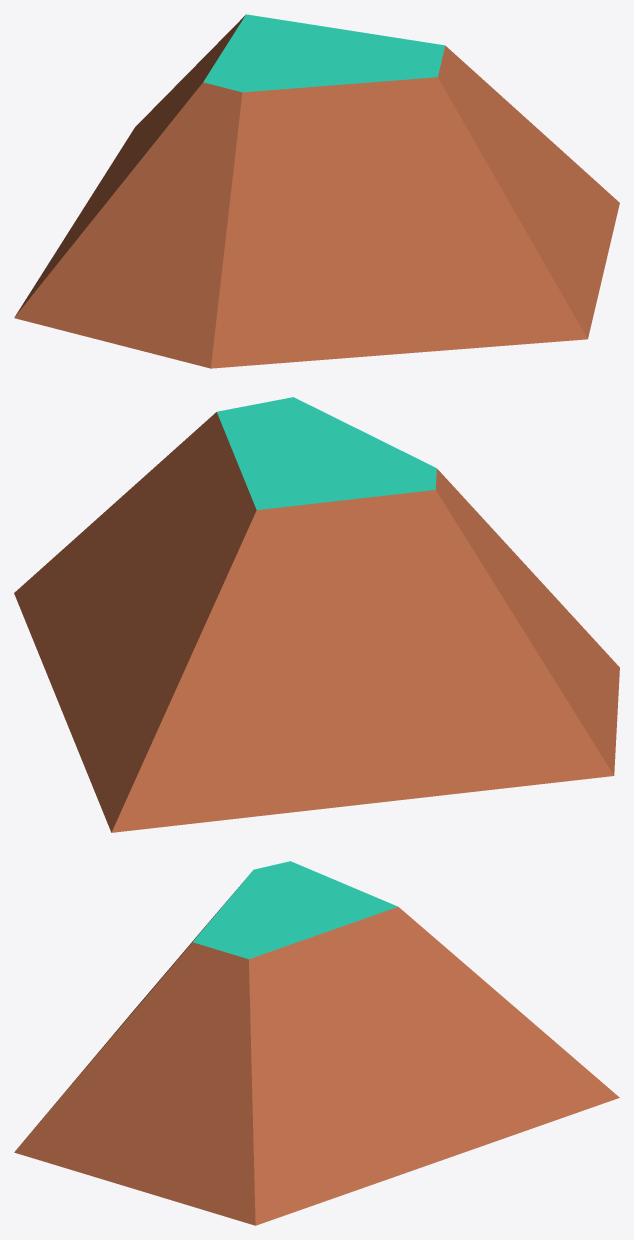
Rendered from rock.glb.
The picture shows the model from 3 angles, top to bottom: view 1: azimuth 30°, elevation 25°; view 2: azimuth 150°, elevation 25°; view 3: azimuth 270°, elevation 25°; orthographic projection. The views are drawn at different scales.
Visible parts, largest first — view 1: rock_smallC; view 2: rock_smallC; view 3: rock_smallC.
Boxes of the visible parts, left/top/right/bottom form: rock_smallC: left=14, top=14, right=619, bottom=368; rock_smallC: left=14, top=397, right=619, bottom=832; rock_smallC: left=14, top=861, right=619, bottom=1225.
Size of the model in its own units: 0.3608 by 0.1227 by 0.3608.
